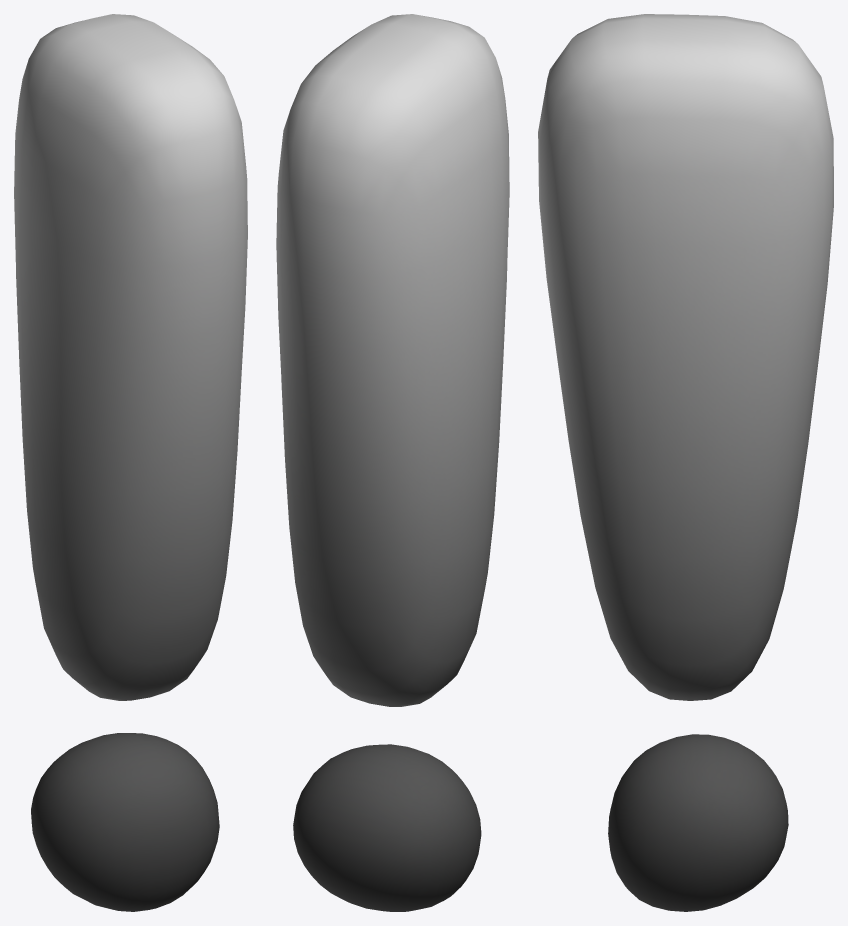
Rendered from ExclamationMarkSingle.dae.
3 views of the same model, side by side, from view 1: azimuth 30°, elevation 25°; view 2: azimuth 150°, elevation 25°; view 3: azimuth 270°, elevation 25° (orthographic).
Parts seen in each view (by area): view 1: Cube_005; view 2: Cube_005; view 3: Cube_005.
Part boxes in pixels (<box>): Cube_005: <box>14,14,247,911</box>; Cube_005: <box>276,14,509,911</box>; Cube_005: <box>538,14,833,911</box>.
Size of the model in its own units: 0.5834 by 0.8393 by 2.73.
1 material, 1 textured.
